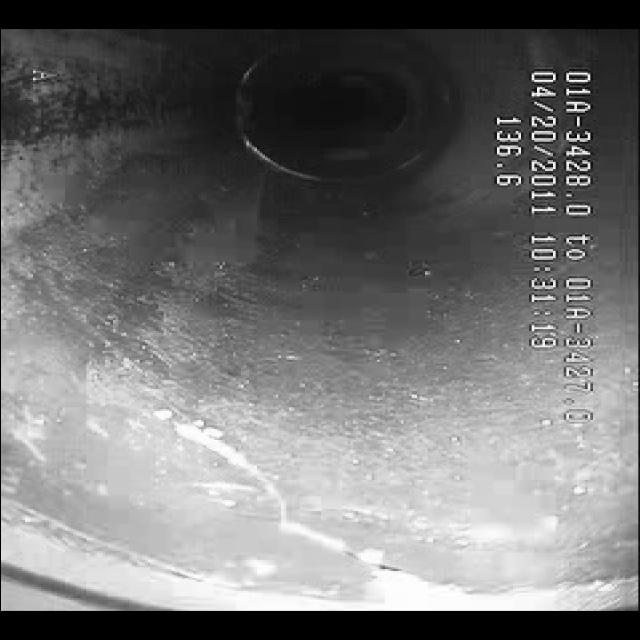Crack: (94, 357, 396, 562)
